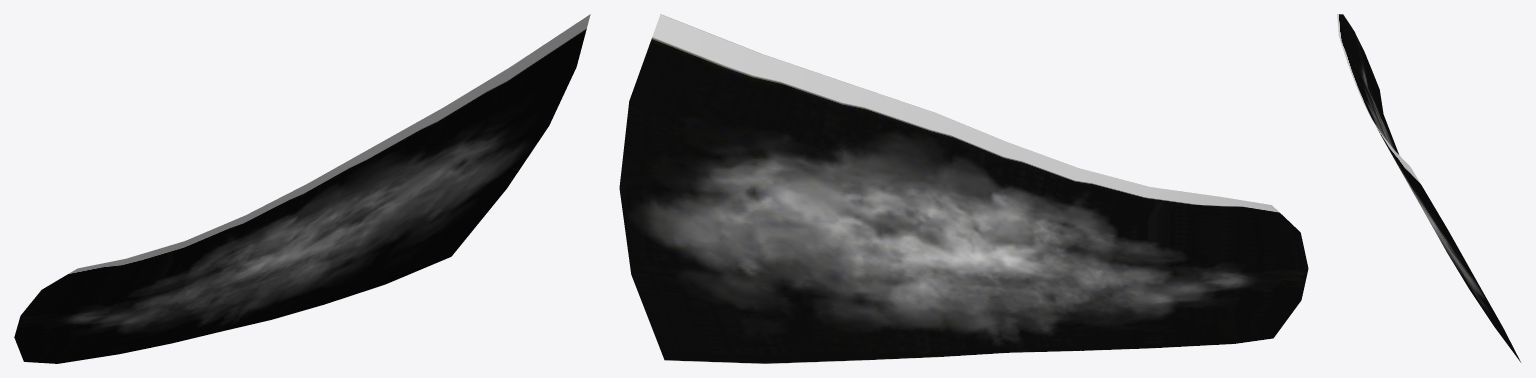
The model's file is effect_scene_smoke #46160290.fbx.
3 views of the same model, side by side, from view 1: azimuth 30°, elevation 25°; view 2: azimuth 150°, elevation 25°; view 3: azimuth 270°, elevation 25° (orthographic). The views are drawn at different scales.
Visible parts, largest first — view 1: effect_scene_smoke_plane_001_0; view 2: effect_scene_smoke_plane_001_0; view 3: effect_scene_smoke_plane_001_0.
Boxes of the visible parts, left/top/right/bottom form: effect_scene_smoke_plane_001_0: left=14, top=14, right=590, bottom=363; effect_scene_smoke_plane_001_0: left=619, top=14, right=1308, bottom=363; effect_scene_smoke_plane_001_0: left=1337, top=14, right=1520, bottom=362.
Bounding box in the file's own units: 22.64 × 9.7 × 7.21.
